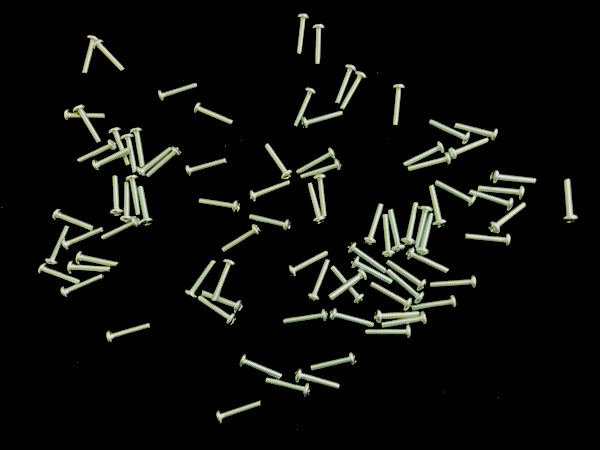longscrew: (329, 264, 366, 306), (385, 257, 428, 291), (184, 257, 217, 301), (434, 178, 479, 210), (369, 281, 414, 313), (386, 268, 426, 304), (346, 240, 389, 273), (488, 201, 529, 235), (349, 255, 394, 285), (404, 246, 451, 274), (60, 273, 107, 301), (196, 294, 237, 326), (92, 39, 128, 75), (426, 117, 472, 145), (328, 269, 368, 301), (263, 375, 314, 400), (73, 103, 103, 145), (216, 399, 264, 425), (287, 249, 330, 278), (238, 353, 284, 380), (295, 147, 339, 175), (340, 70, 369, 112), (221, 224, 263, 253), (145, 147, 183, 179), (402, 141, 447, 168), (105, 321, 153, 346), (136, 146, 174, 177), (293, 368, 342, 392), (199, 289, 244, 315), (61, 227, 106, 253), (307, 258, 332, 304), (43, 225, 71, 266), (211, 258, 237, 302), (100, 216, 144, 242), (263, 142, 293, 180), (193, 101, 235, 128), (467, 188, 515, 211), (328, 307, 376, 330), (248, 178, 292, 203), (292, 87, 318, 129), (75, 138, 117, 164), (334, 63, 359, 106), (453, 120, 499, 143), (448, 136, 492, 160), (427, 183, 449, 231), (51, 208, 95, 232), (362, 202, 385, 247), (305, 180, 327, 227), (157, 80, 200, 104), (309, 352, 358, 373), (38, 263, 82, 286), (92, 147, 132, 172), (248, 212, 293, 234), (488, 168, 537, 188), (560, 177, 580, 226), (301, 109, 345, 131), (407, 152, 453, 173), (386, 208, 407, 253), (413, 205, 434, 250), (415, 211, 436, 256), (108, 127, 131, 168), (299, 159, 343, 180), (476, 184, 527, 202), (463, 232, 513, 250), (401, 201, 421, 246), (411, 294, 460, 312), (281, 309, 330, 327), (184, 158, 228, 178), (197, 196, 242, 215), (75, 250, 120, 269), (380, 311, 429, 328), (312, 173, 330, 219), (390, 83, 408, 128), (62, 108, 107, 126), (125, 173, 143, 218), (429, 275, 479, 291), (364, 325, 414, 341), (137, 184, 155, 228), (373, 308, 422, 324), (294, 11, 311, 57), (81, 34, 99, 77), (380, 212, 396, 260), (66, 260, 112, 276), (129, 126, 146, 169), (121, 133, 139, 173), (119, 181, 135, 223), (312, 23, 327, 67), (109, 174, 124, 218)
